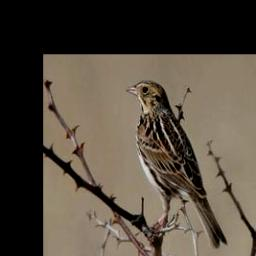Sparrow: (123, 75, 231, 254)
